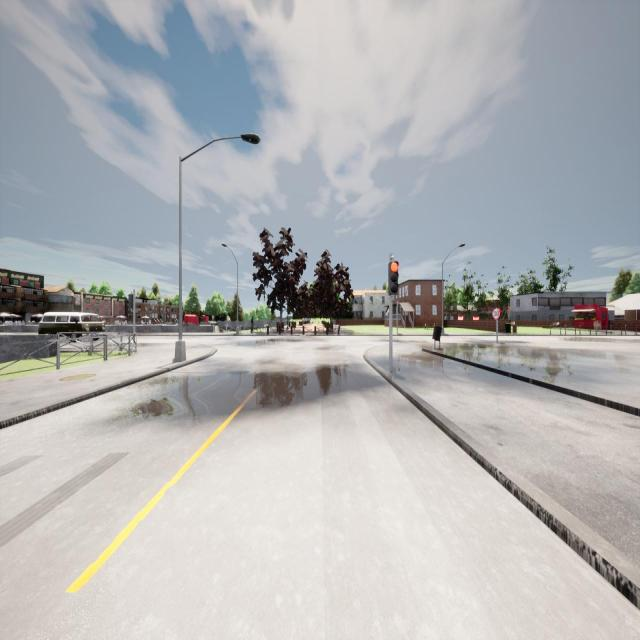Pedestrian: (250, 316, 256, 334)
Traffic_Signs: (492, 307, 501, 320)
Vehicle: (38, 312, 104, 342)
traffic_light: (388, 261, 400, 295), (128, 294, 133, 309)
